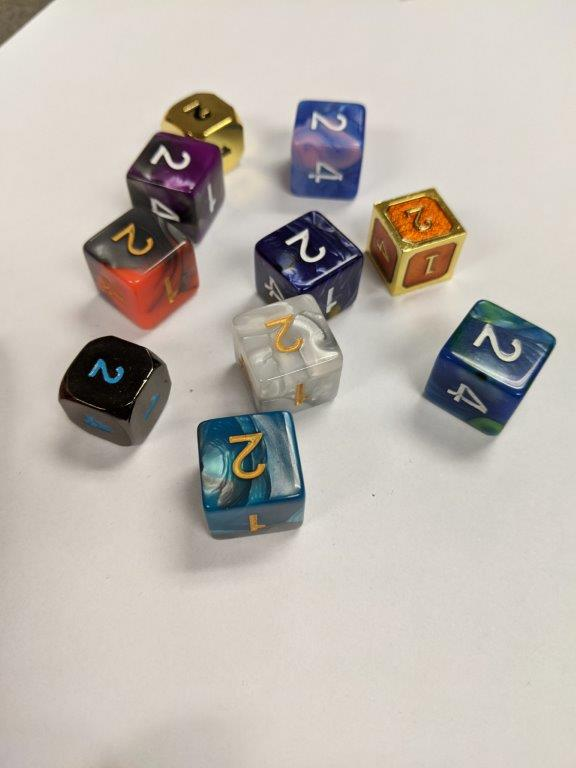d6-2: (425, 299, 556, 436), (82, 207, 202, 328), (197, 408, 305, 541), (59, 335, 172, 448), (232, 295, 340, 413), (255, 211, 365, 321), (127, 133, 228, 243), (370, 186, 465, 294), (159, 89, 247, 180), (287, 100, 364, 201)
